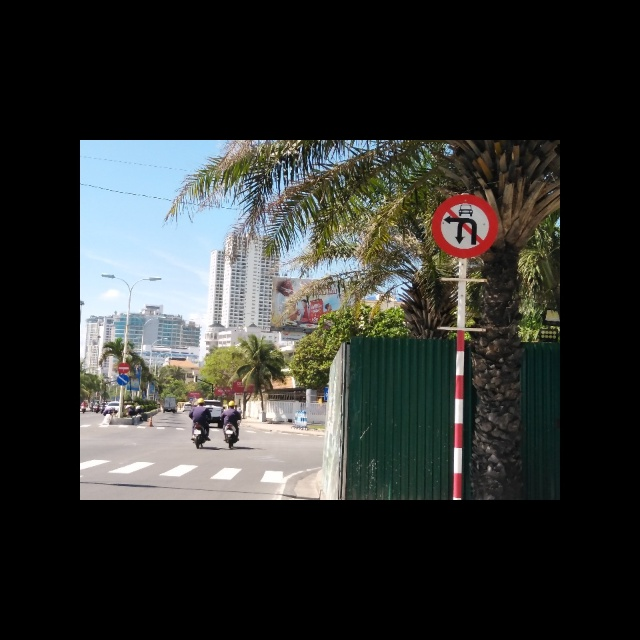Cấm xe ô tô quay đầu và rẽ trái: (430, 192, 501, 261)
